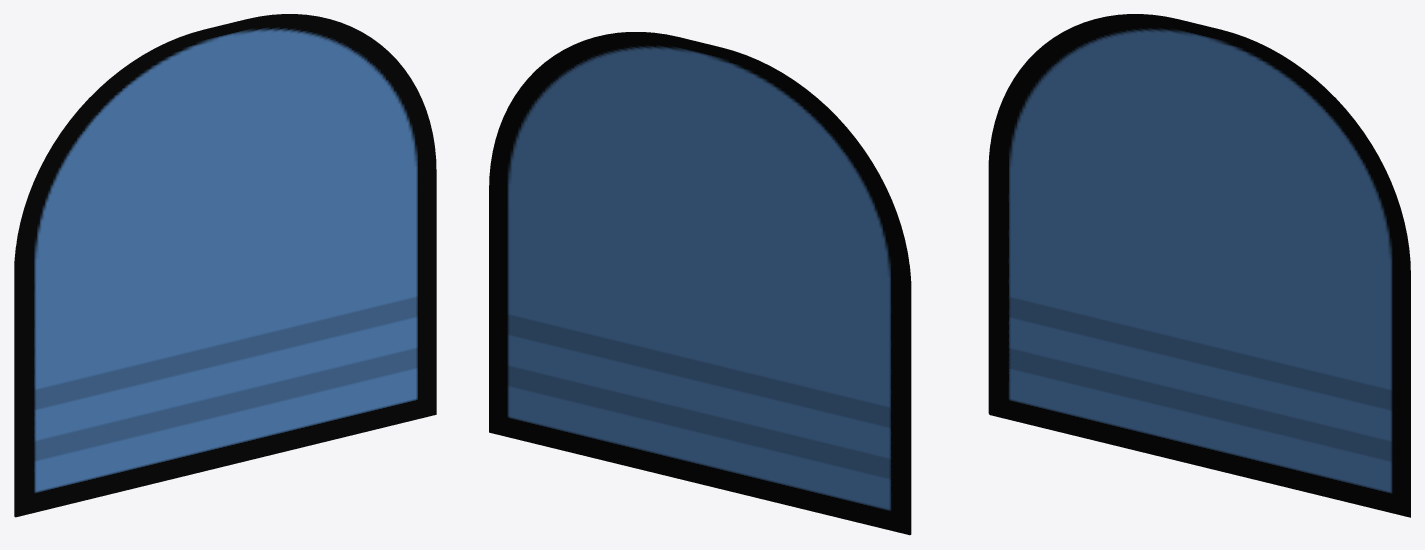
The model's file is box-door.obj.
3 views of the same model, side by side, from view 1: azimuth 30°, elevation 25°; view 2: azimuth 150°, elevation 25°; view 3: azimuth 330°, elevation 25° (orthographic).
Visible parts, largest first — view 1: Cube.004_Cube.017; view 2: Cube.004_Cube.017; view 3: Cube.004_Cube.017.
Boxes of the visible parts, x1=… form: Cube.004_Cube.017: x1=14, y1=14, x2=436, y2=517; Cube.004_Cube.017: x1=489, y1=32, x2=911, y2=535; Cube.004_Cube.017: x1=988, y1=14, x2=1410, y2=517.
Size of the model in its own units: 0.2 by 0.2 by 0.02.
1 material, 1 textured.
